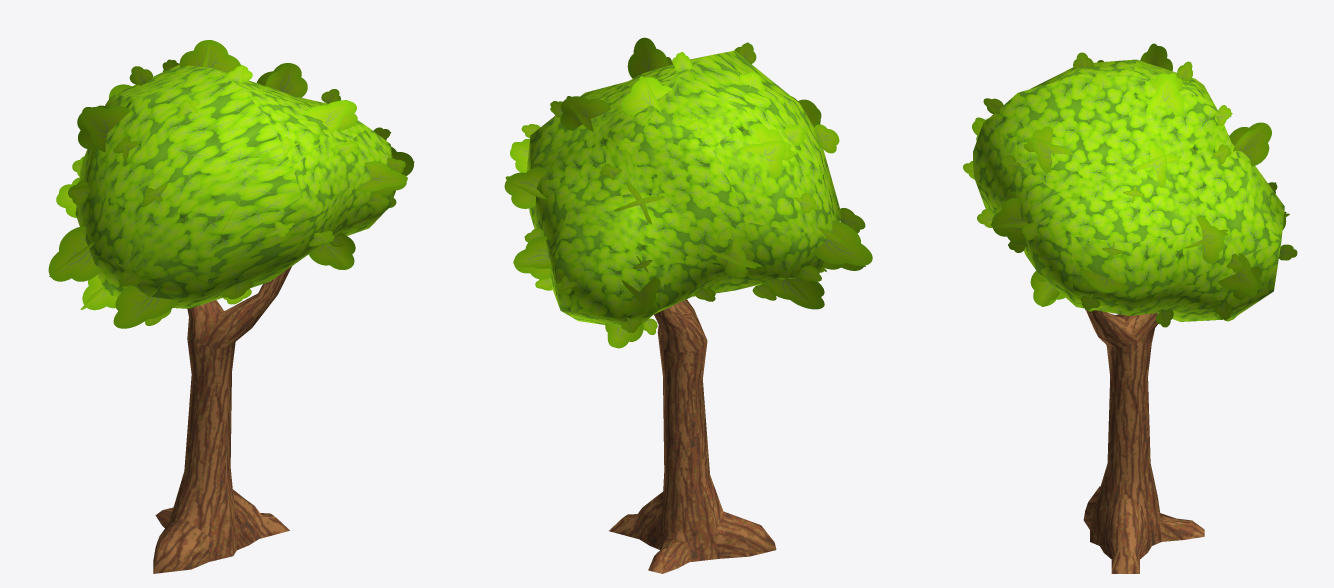
File: leaf_tree_c.fbx
The picture shows the model from 3 angles, left to right: view 1: azimuth 30°, elevation 25°; view 2: azimuth 150°, elevation 25°; view 3: azimuth 270°, elevation 25°; orthographic projection.
Visible parts, largest first — view 1: leaves_c, leaf_tree_c; view 2: leaves_c, leaf_tree_c; view 3: leaves_c, leaf_tree_c.
Boxes of the visible parts, x1,y1,x2,y2 form: leaves_c: (48,40,414,328); leaf_tree_c: (153,266,291,573); leaves_c: (504,37,872,348); leaf_tree_c: (609,299,776,573); leaves_c: (963,43,1297,327); leaf_tree_c: (1083,310,1204,573).
Size of the model in its own units: 263 by 306 by 212.
